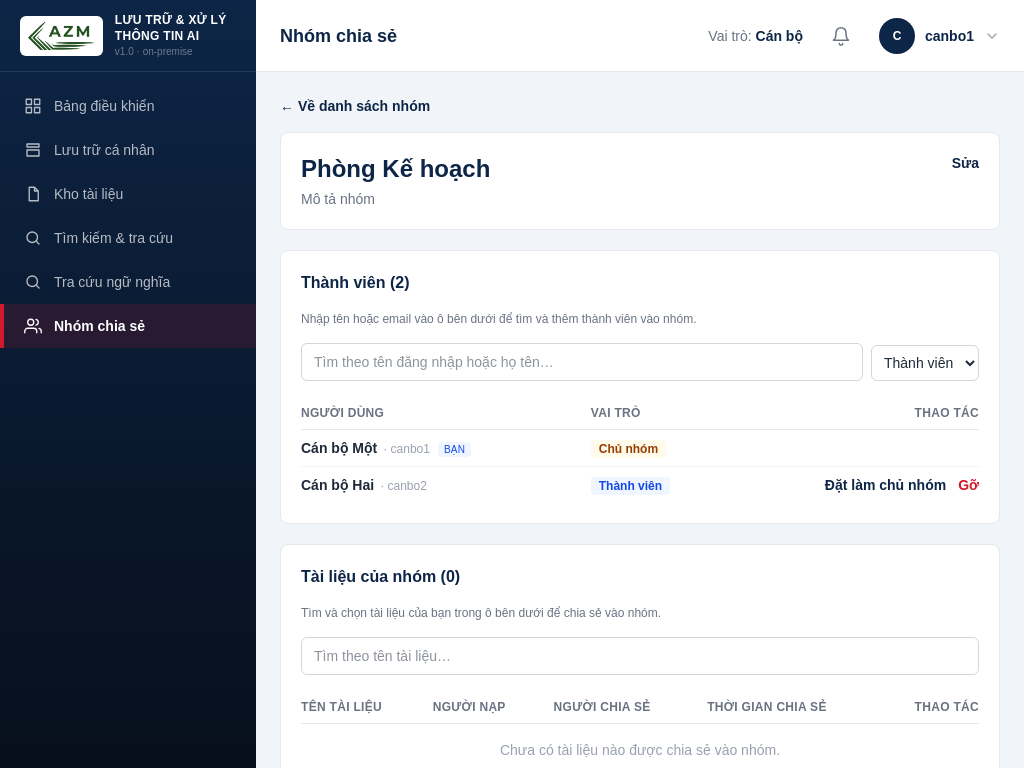
Test: GroupDetailPage › adds a member found through the user picker
Expected: the heading "Phòng Kế hoạch" is shown, left=301, top=153, right=490, bottom=185
Type "canbo3" into the field with placeholder "Tìm theo tên đăng nhập hoặc họ tên…" at (582, 362), box left=301, top=343, right=863, bottom=381
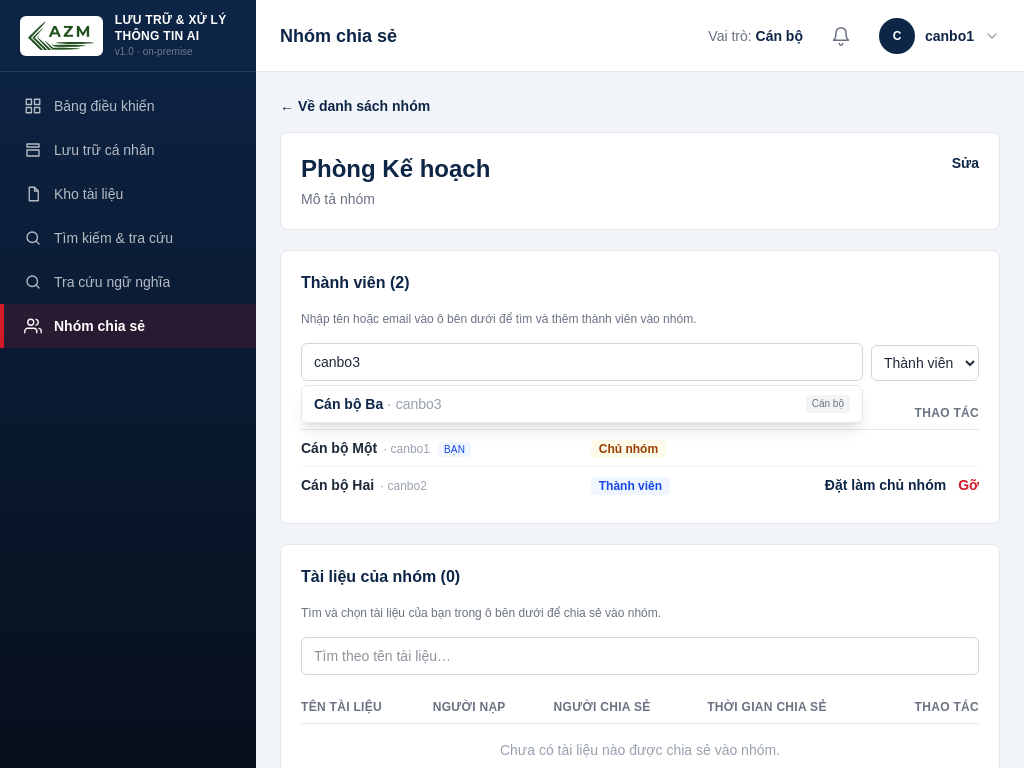
Expected: the text "Cán bộ Ba" is shown
Click the text "Cán bộ Ba" at (349, 404), box left=314, top=396, right=383, bottom=412
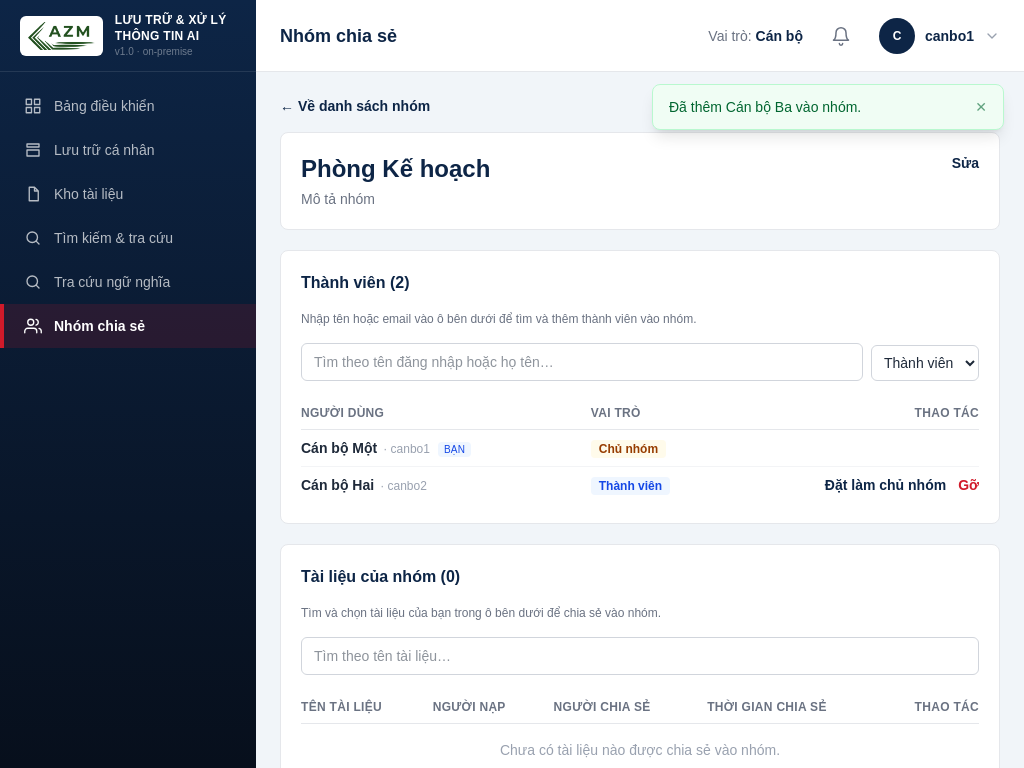
Expected: the text "Đã thêm Cán bộ Ba vào nhóm." is shown, left=669, top=99, right=861, bottom=115
